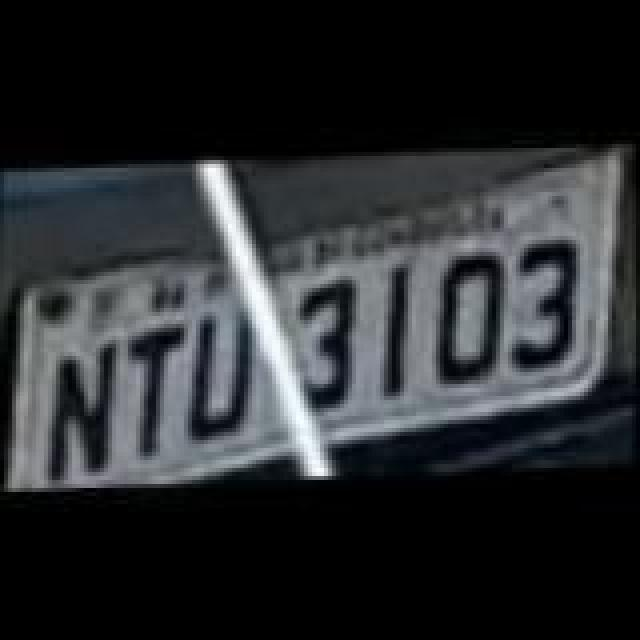1: (372, 268, 424, 404)
3: (290, 276, 370, 416), (508, 230, 584, 370)
N: (42, 344, 126, 480)
O: (426, 250, 514, 390)
T: (118, 318, 194, 462)
U: (182, 302, 262, 442)
